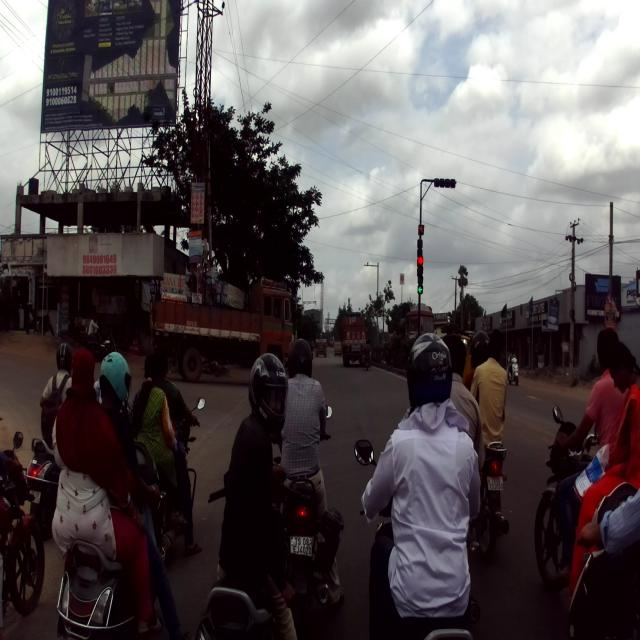motorcycle: (272, 405, 344, 630), (534, 404, 601, 590), (468, 440, 510, 559)
scooter: (55, 442, 166, 638)
truck: (149, 276, 295, 383)
